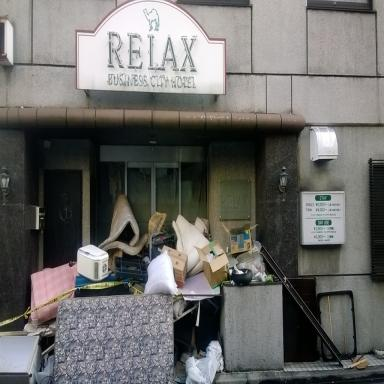plasticbag: (184, 338, 223, 383), (144, 248, 176, 296), (234, 264, 243, 272), (226, 263, 232, 273)
